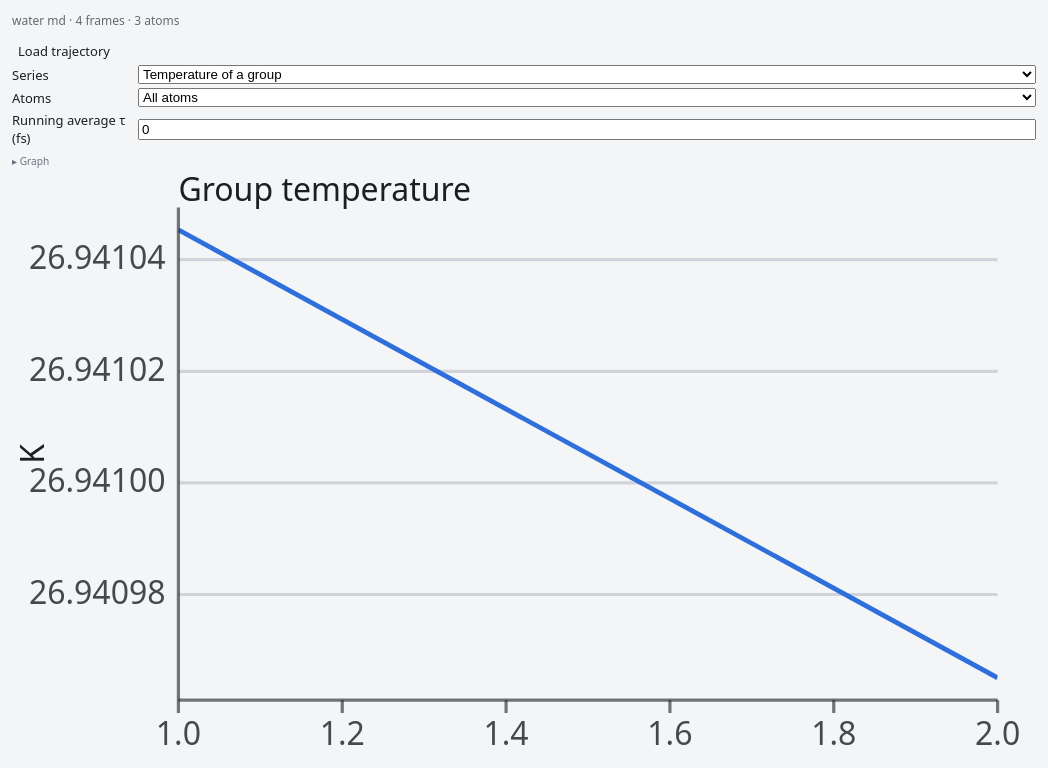
marks a term whose atoms are out of range and leaves it out of the sum
Select "Internal coordinate / mode" in the dropdown labelled "Series": (587, 74) x1=138 y1=65 x2=1036 y2=84
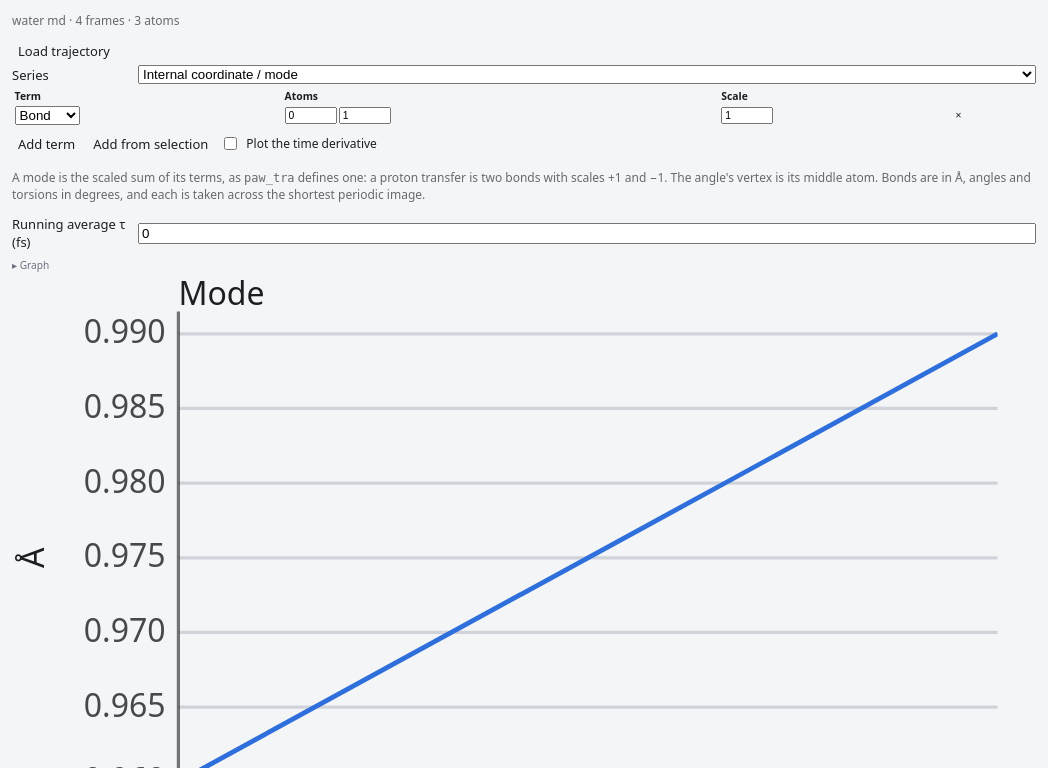
Replace the text in the number field named "Term 1 atom 2" with "9": (365, 115) x1=339 y1=107 x2=391 y2=124
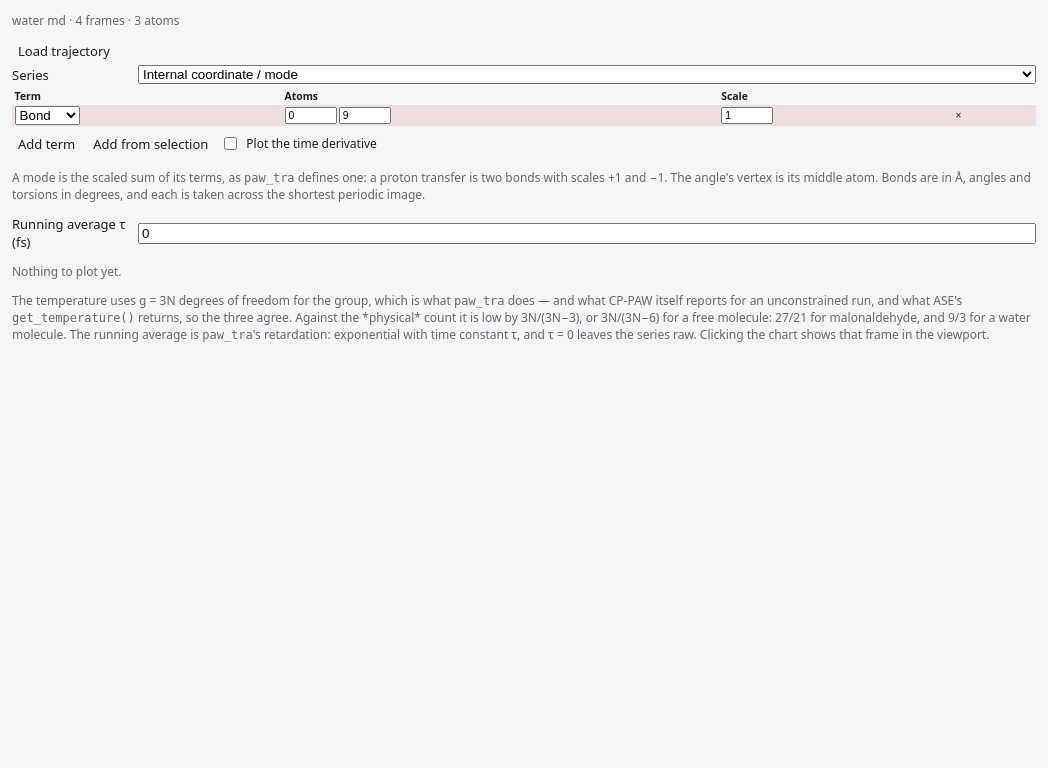
Result: the row with class "row-invalid" is shown at x1=12 y1=105 x2=1036 y2=126
Result: the text "Nothing to plot yet." is shown at x1=12 y1=263 x2=122 y2=280
